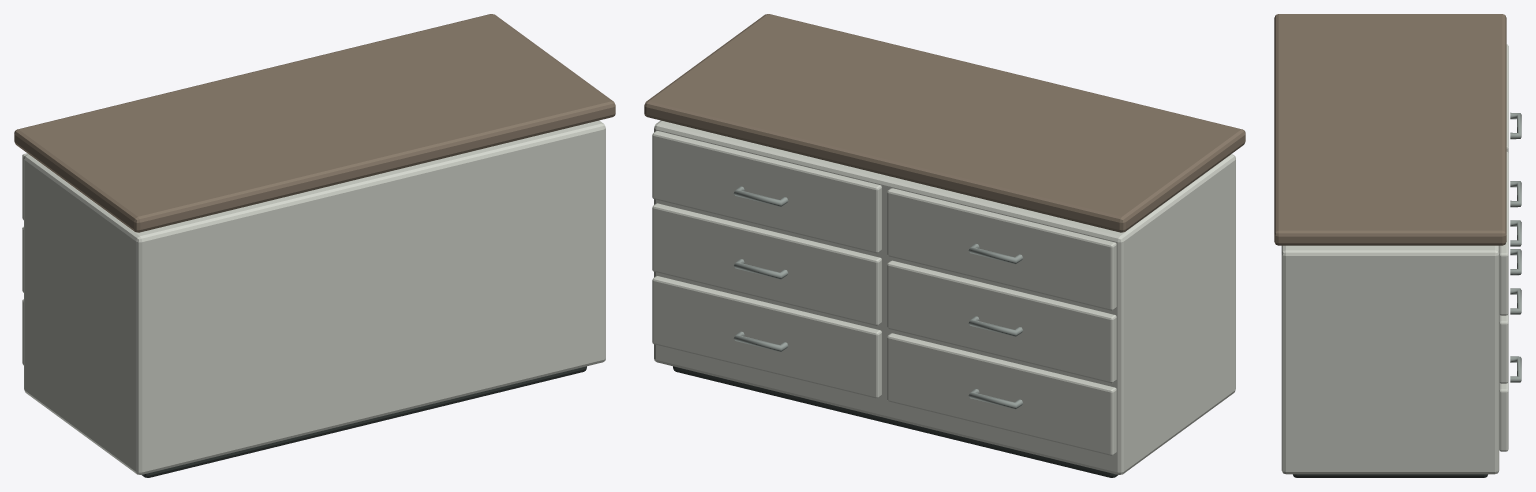
Rendered from flat_files.glb.
The picture shows the model from 3 angles, left to right: view 1: azimuth 30°, elevation 25°; view 2: azimuth 150°, elevation 25°; view 3: azimuth 270°, elevation 25°; orthographic projection. The views are drawn at different scales.
Parts seen in each view (by area): view 1: KitIvory, KitWood, KitDark; view 2: KitIvory, KitWood, KitSteel, KitDark; view 3: KitWood, KitIvory, KitSteel, KitDark.
Part boxes in pixels (<box>): KitIvory: <box>22,120,605,474</box>; KitWood: <box>14,14,615,232</box>; KitDark: <box>142,366,586,477</box>; KitIvory: <box>652,120,1235,474</box>; KitWood: <box>644,14,1245,232</box>; KitSteel: <box>733,186,1023,409</box>; KitDark: <box>673,366,1117,477</box>; KitWood: <box>1274,14,1506,245</box>; KitIvory: <box>1281,44,1508,474</box>; KitSteel: <box>1510,112,1521,382</box>; KitDark: <box>1293,474,1487,477</box>.
Bounding box in the file's own units: 1.43 × 0.7775 × 0.6814.
